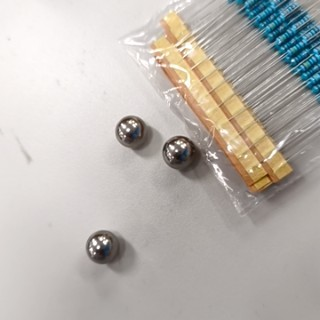ironball: (105, 98, 151, 164), (158, 117, 198, 181), (66, 219, 123, 261)
